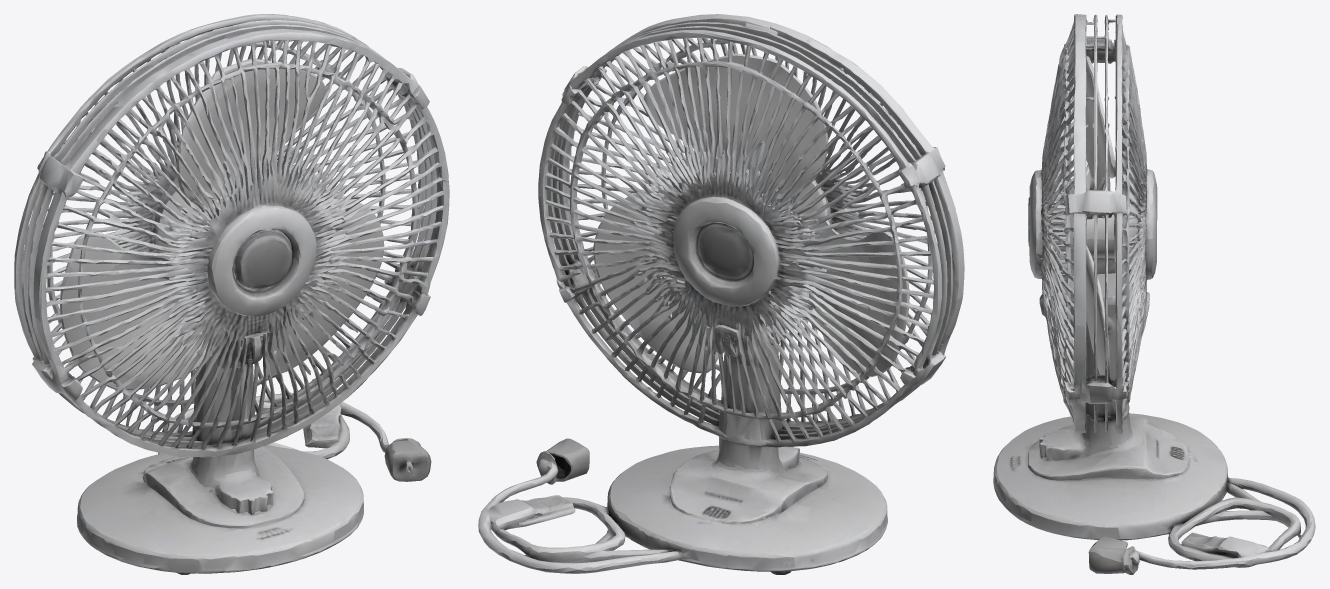
The model's file is whole.glb.
3 views of the same model, side by side, from view 1: azimuth 30°, elevation 25°; view 2: azimuth 150°, elevation 25°; view 3: azimuth 270°, elevation 25° (orthographic). The views are drawn at different scales.
Visible parts, largest first — view 1: world; view 2: world; view 3: world.
Boxes of the visible parts, bbox=[...] form: world: bbox=[14, 14, 449, 574]; world: bbox=[478, 14, 964, 574]; world: bbox=[993, 14, 1315, 574].
Size of the model in its own units: 0.3867 by 0.45 by 0.2873.
1 material, 1 textured.
